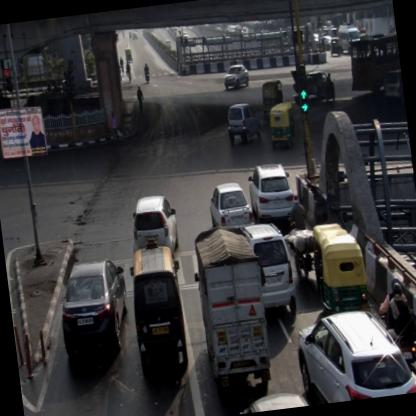bus: (346, 32, 403, 99), (335, 22, 363, 56)
car: (294, 303, 415, 406), (124, 237, 192, 386), (54, 257, 134, 361), (238, 218, 299, 322), (127, 193, 181, 260), (247, 159, 298, 223), (206, 180, 255, 233), (224, 99, 262, 145), (221, 62, 250, 90), (305, 70, 331, 98)
motorcycle: (378, 274, 415, 375), (284, 193, 312, 279), (142, 62, 151, 83), (124, 61, 132, 82)
truck: (190, 224, 274, 394)
